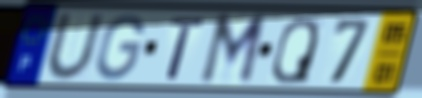7: (327, 16, 377, 87)
G: (94, 12, 147, 82)
M: (196, 11, 270, 88)
Q: (269, 16, 321, 86)
T: (165, 15, 208, 83)
U: (44, 12, 107, 82)
